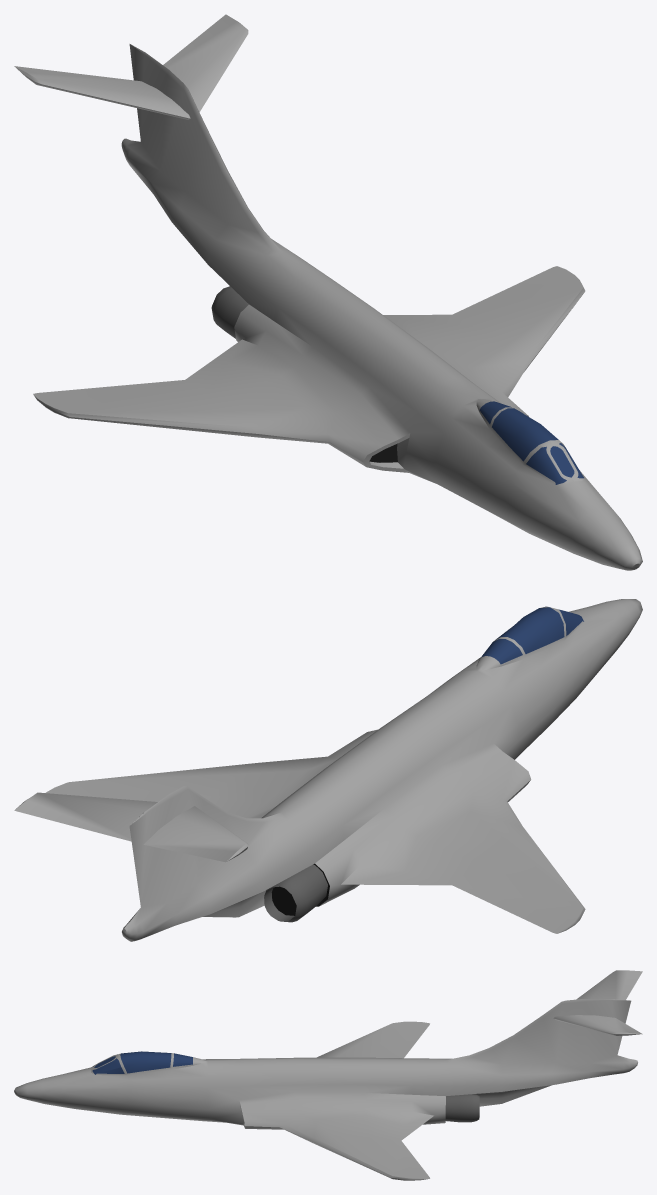
The model's file is F101_VOODOO.glb.
The picture shows the model from 3 angles, top to bottom: view 1: azimuth 30°, elevation 25°; view 2: azimuth 150°, elevation 25°; view 3: azimuth 270°, elevation 25°; orthographic projection. The views are drawn at different scales.
Parts seen in each view (by area): view 1: f101_voodoo; view 2: f101_voodoo; view 3: f101_voodoo.
Part boxes in pixels (<box>): f101_voodoo: <box>14,14,642,570</box>; f101_voodoo: <box>14,599,642,941</box>; f101_voodoo: <box>14,970,642,1180</box>.
Size of the model in its own units: 10.07 by 3.52 by 17.
